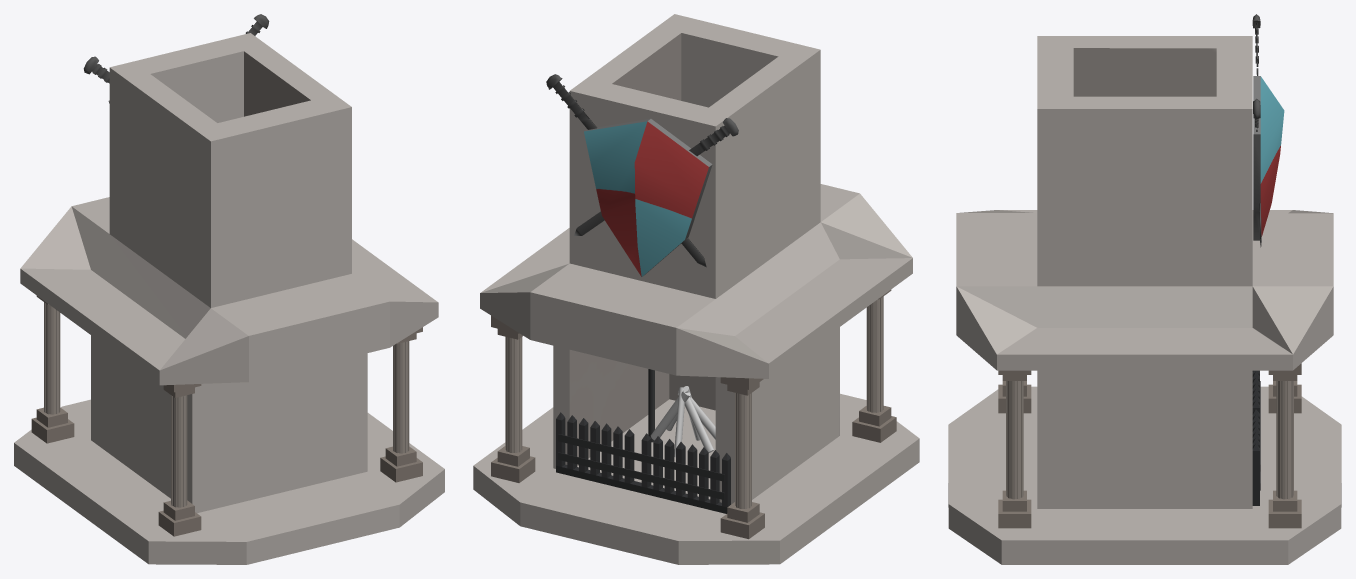
The model's file is Fireplace.fbx.
3 views of the same model, side by side, from view 1: azimuth 30°, elevation 25°; view 2: azimuth 150°, elevation 25°; view 3: azimuth 270°, elevation 25° (orthographic). The views are drawn at different scales.
Parts seen in each view (by area): view 1: pCube8, pCube14, pCube15, pCube12; view 2: pCube8, Shield:polySurface3, polySurface63, pCube12, pCube13, pCube14, polySurface62, polySurface61, pCube17, pCube16; view 3: pCube8, pCube13, pCube15, Shield:polySurface3, polySurface63, pCube12, pCube14.
Boxes of the visible parts, left/top/right/bottom form: pCube8: left=14, top=33, right=444, bottom=564; pCube14: left=158, top=384, right=201, bottom=536; pCube15: left=380, top=327, right=422, bottom=482; pCube12: left=31, top=296, right=74, bottom=443; pCube8: left=473, top=14, right=919, bottom=564; Shield:polySurface3: left=584, top=118, right=712, bottom=276; polySurface63: left=556, top=412, right=730, bottom=513; pCube12: left=720, top=377, right=764, bottom=539; pCube13: left=491, top=315, right=535, bottom=482; pCube14: left=852, top=290, right=896, bottom=442; polySurface62: left=558, top=452, right=724, bottom=500; polySurface61: left=558, top=434, right=724, bottom=481; pCube17: left=546, top=74, right=706, bottom=267; pCube16: left=574, top=118, right=738, bottom=235; pCube8: left=948, top=36, right=1341, bottom=564; pCube13: left=1268, top=363, right=1301, bottom=528; pCube15: left=998, top=370, right=1031, bottom=528; Shield:polySurface3: left=1253, top=76, right=1284, bottom=240; polySurface63: left=1252, top=370, right=1259, bottom=505; pCube12: left=1268, top=381, right=1301, bottom=413; pCube14: left=998, top=381, right=1031, bottom=413.
Size of the model in its own units: 45.02 by 58.96 by 48.66.
